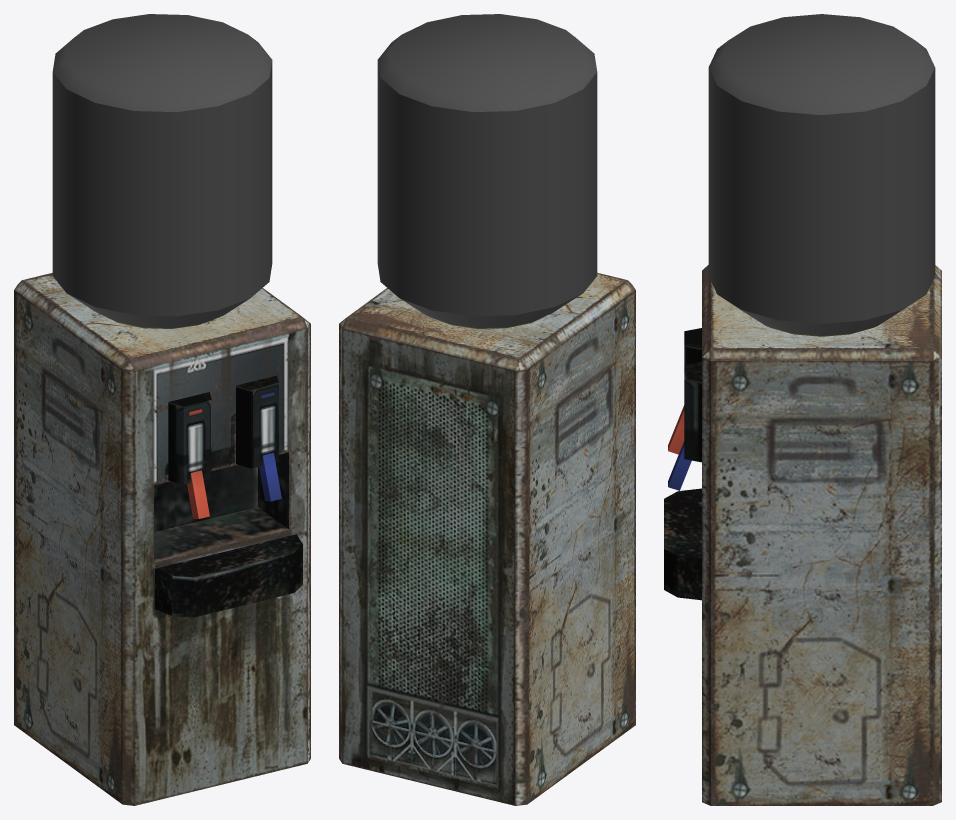
The model's file is cooler.fbx.
3 views of the same model, side by side, from view 1: azimuth 30°, elevation 25°; view 2: azimuth 150°, elevation 25°; view 3: azimuth 270°, elevation 25° (orthographic). The views are drawn at different scales.
Parts seen in each view (by area): view 1: cooler, dirt_glas; view 2: cooler, dirt_glas; view 3: cooler, dirt_glas.
Part boxes in pixels (box(x1,y1,x2,y2)): cooler: box(14, 273, 310, 805); dirt_glas: box(52, 14, 272, 328); cooler: box(339, 273, 635, 805); dirt_glas: box(377, 14, 597, 328); cooler: box(664, 265, 941, 805); dirt_glas: box(708, 14, 935, 335).
Size of the model in its own units: 48.39 by 165 by 59.31.
